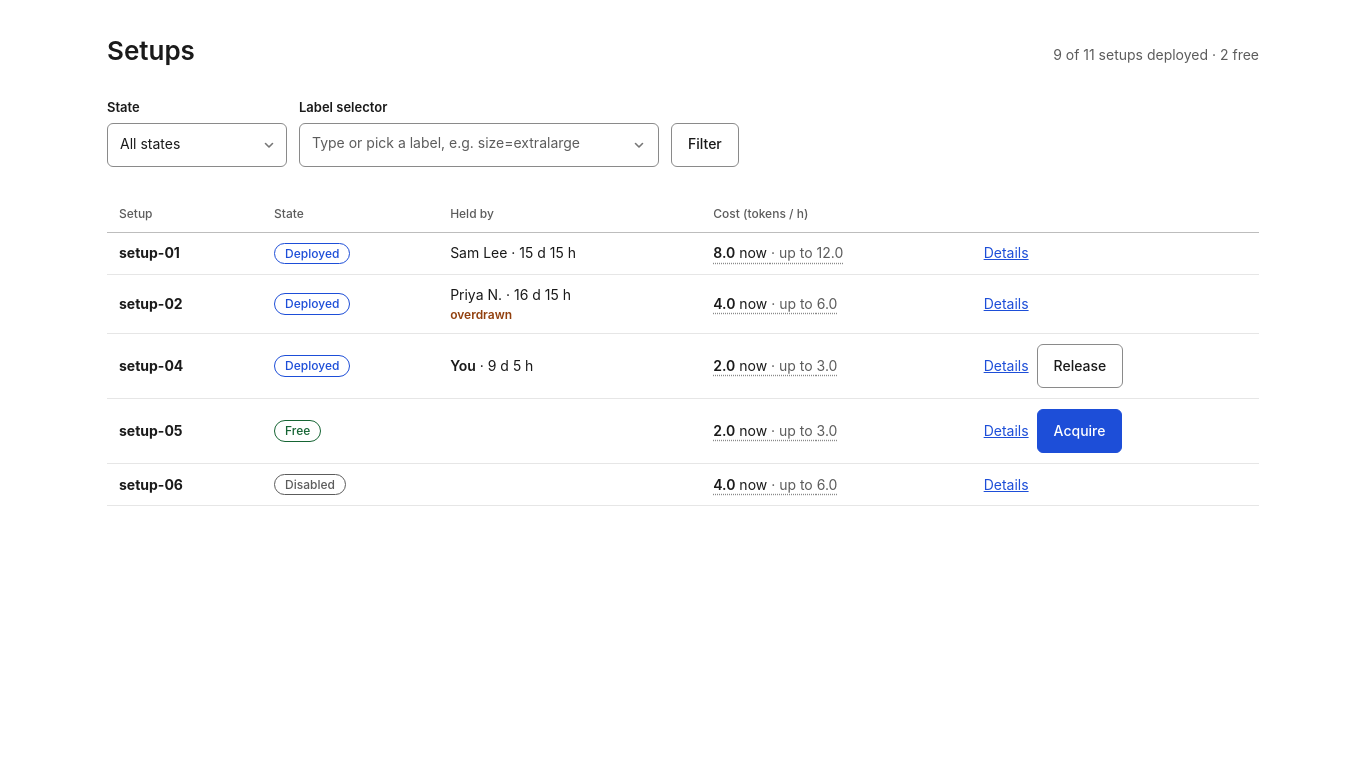
Test case: Setups page › HOLD-1 Acquire confirms with cost now and at the highest multiplier, then posts with the CSRF header
Click the button with aria-label "Acquire setup-05" at (1080, 431), box [1037,409,1122,453]
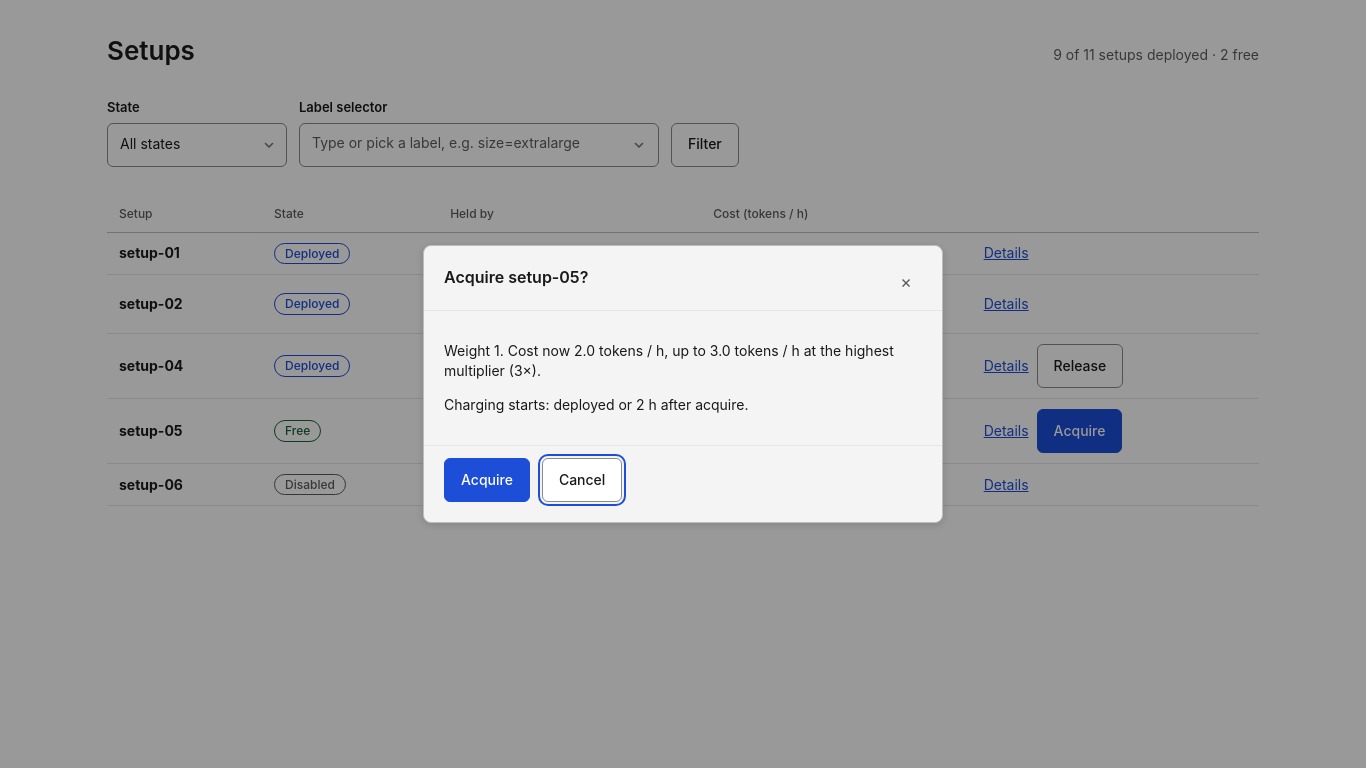
Now the dialog "Acquire setup-05?" shows "Cost now 2.0 tokens / h, up to 3.0 tokens / h at the highest multiplier (3×).", box [423,244,943,523]
Now the dialog "Acquire setup-05?" shows "deployed or 2 h after acquire", box [553,396,744,413]
Click the button "Acquire" at (487, 480), box [444,458,530,502]
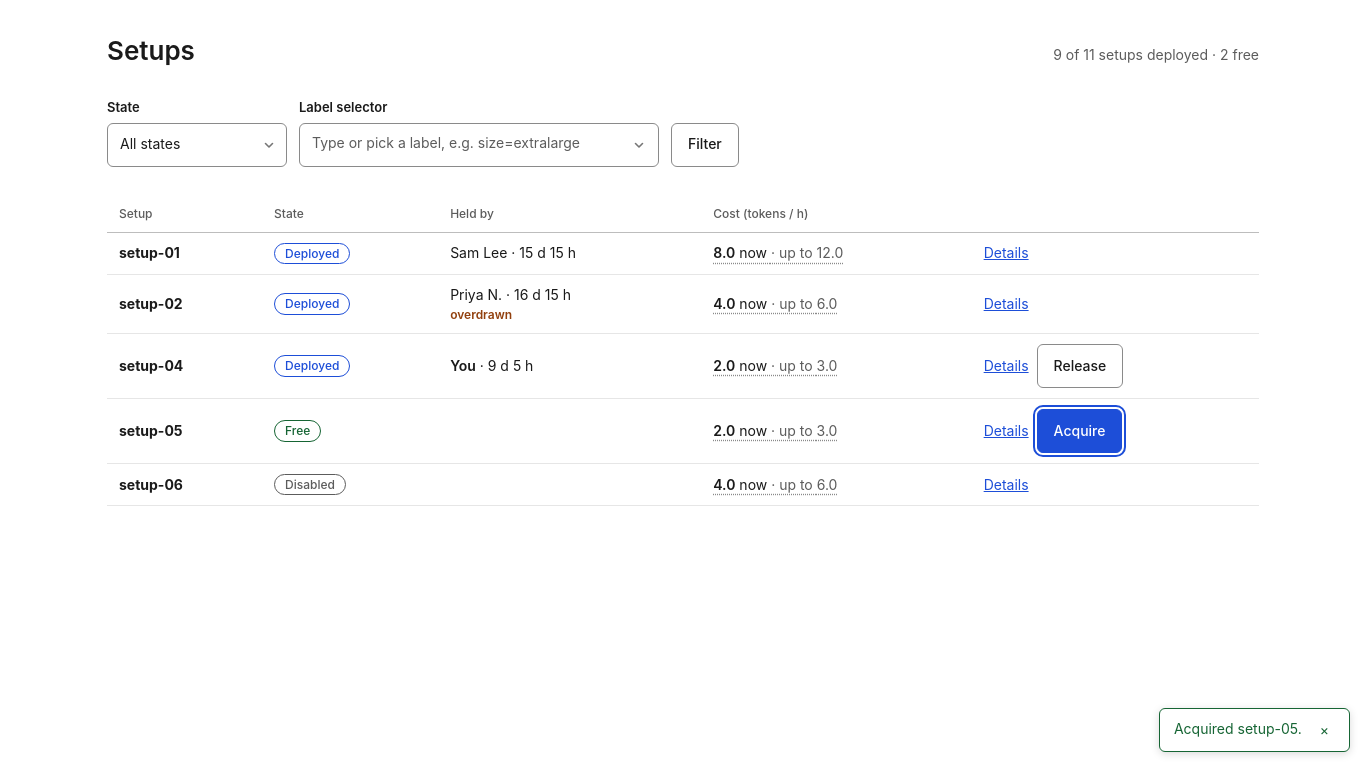
Now the dialog is gone
